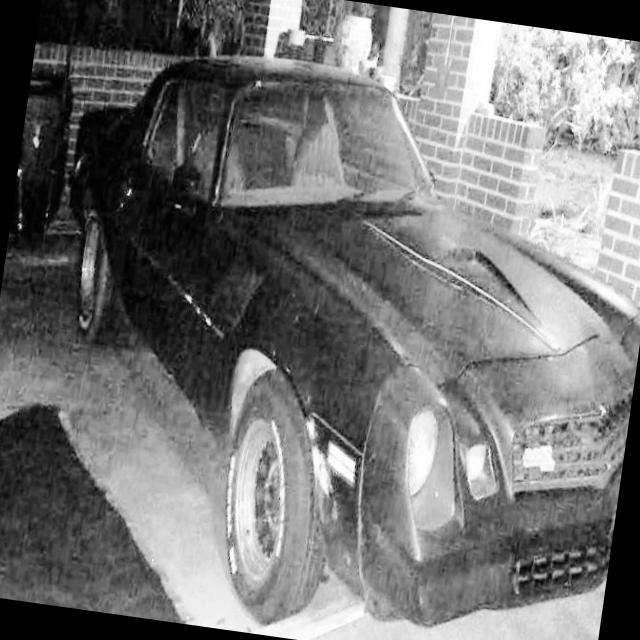Car: (23, 8, 640, 640)
